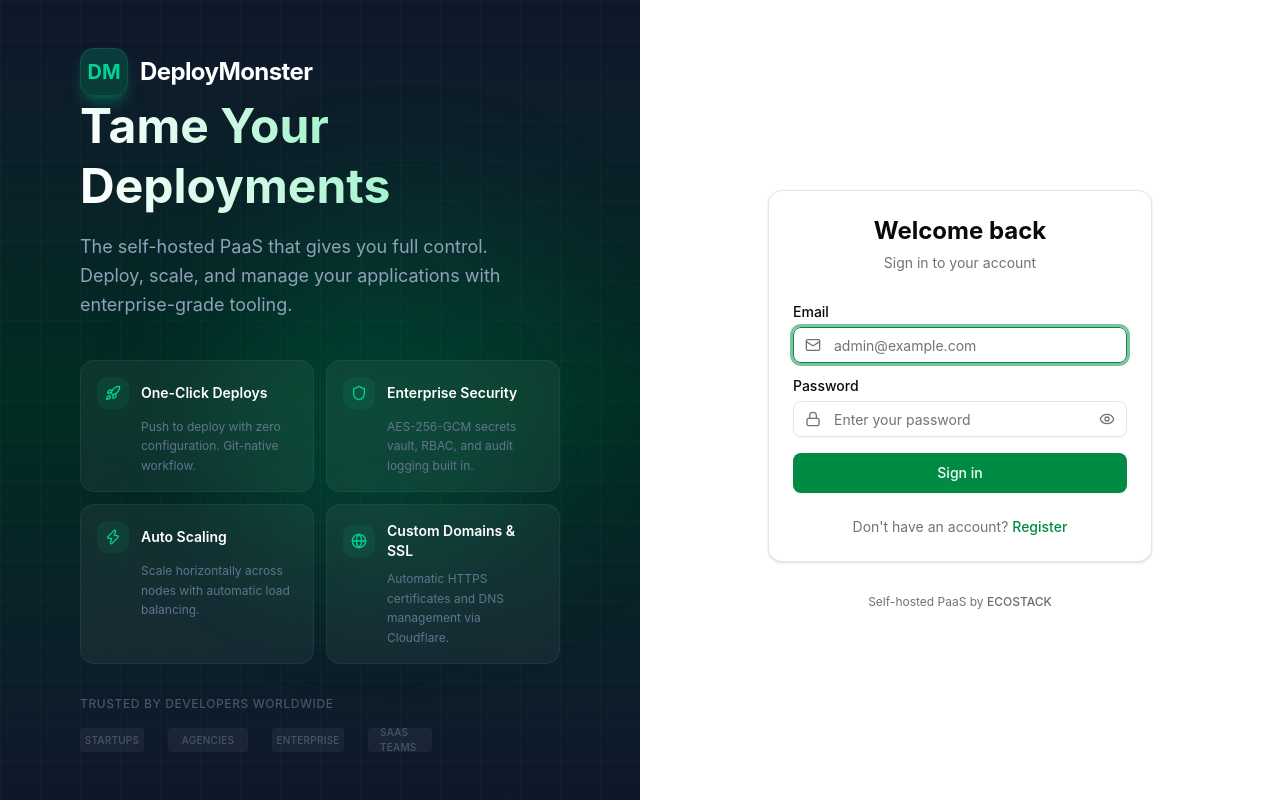
Login page › shows the error message from login() when it throws
Step 1. Type "bad@example.com" into the field labelled "Email" → (960, 345), box [793, 327, 1127, 363]
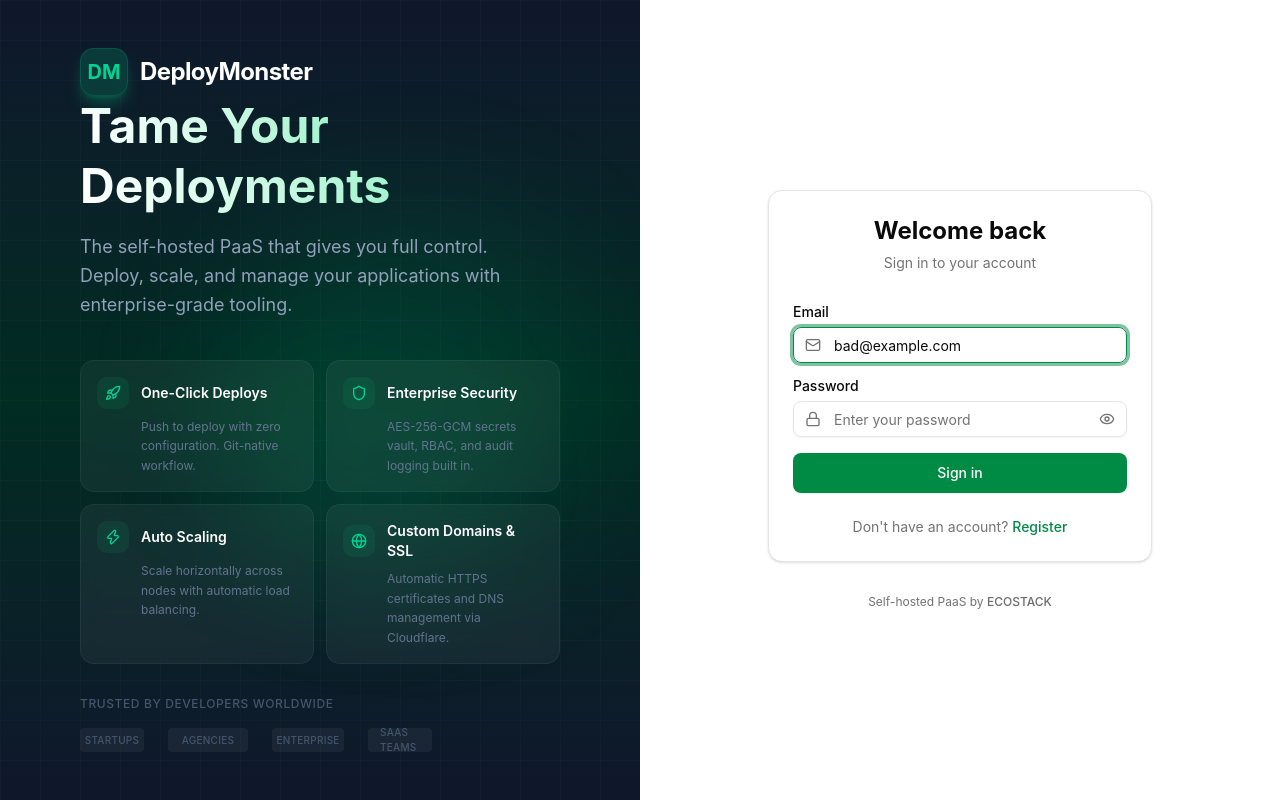
Step 2. Type "wrong" into the password field labelled "Password" → (960, 419), box [793, 401, 1127, 437]
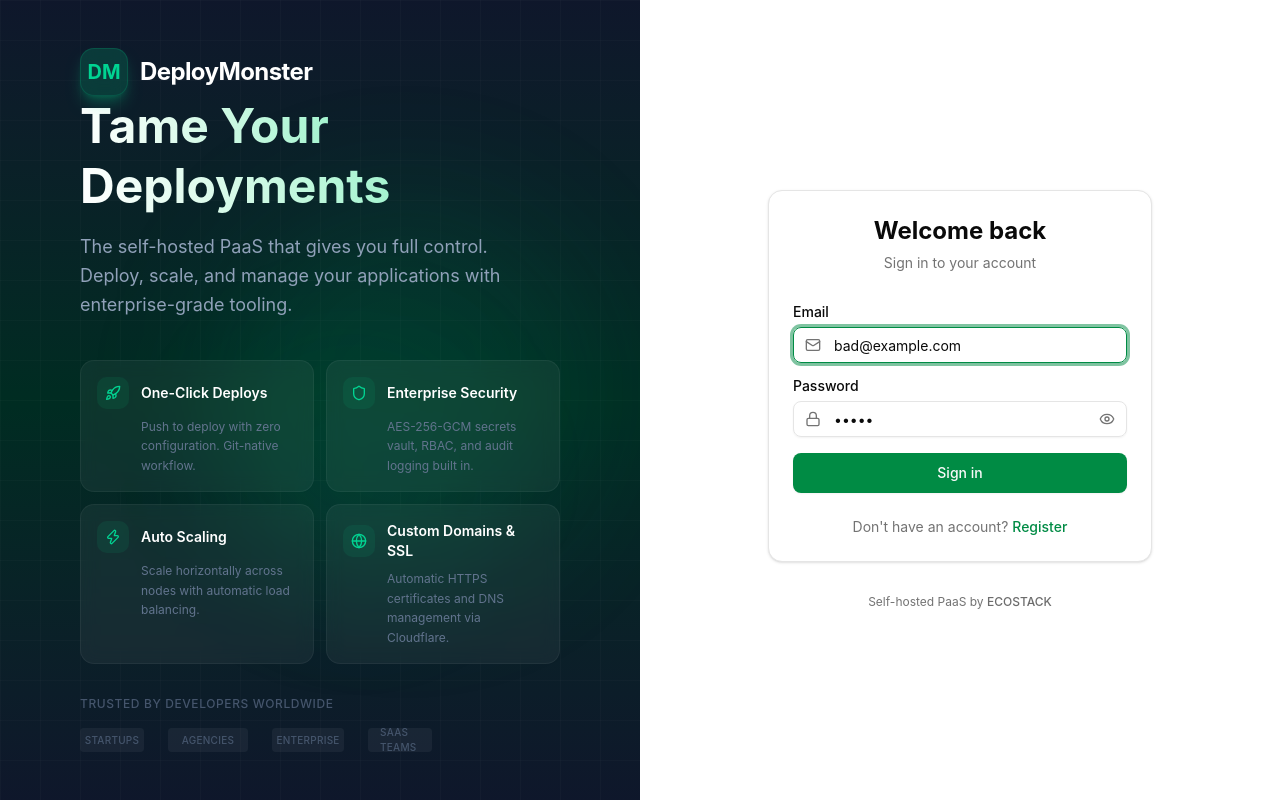
Step 3. Click the button "Sign in" → (960, 473), box [793, 453, 1127, 493]
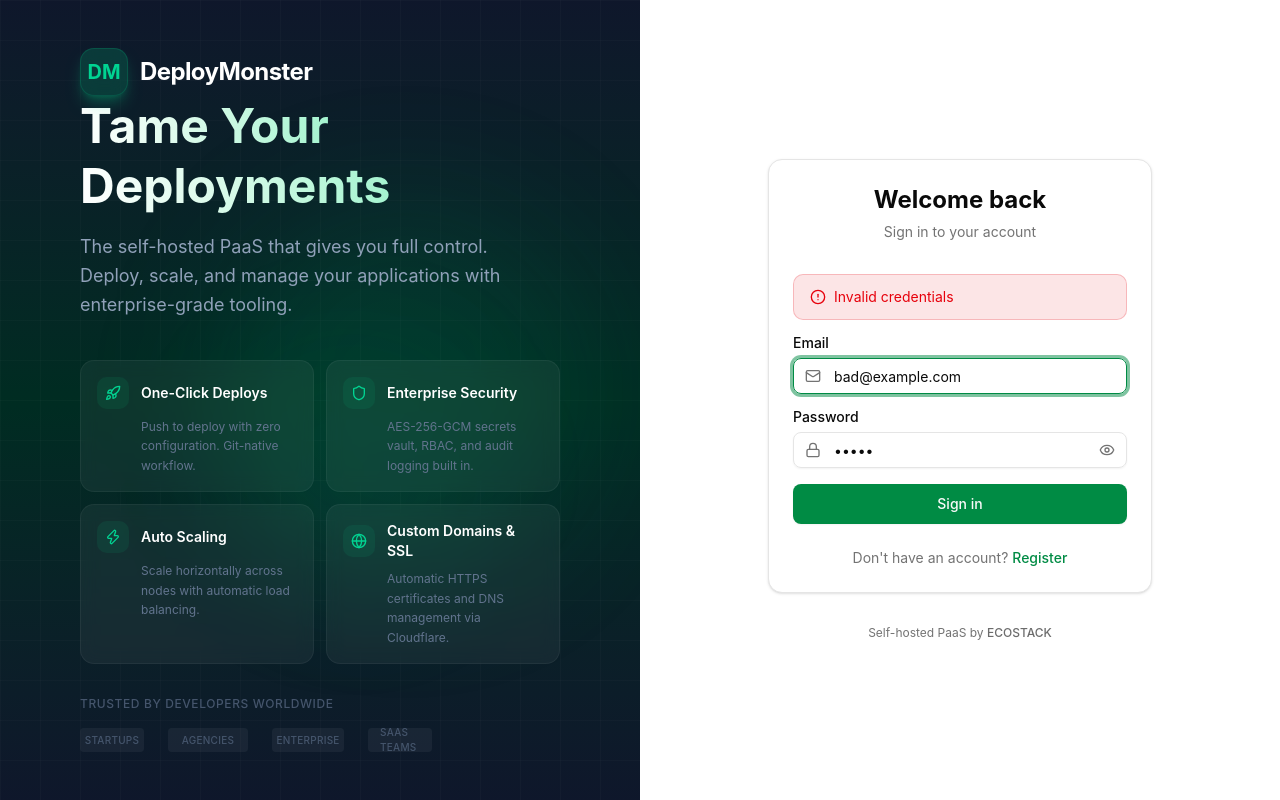
Expected: the text "Invalid credentials" is shown, [834, 287, 954, 307]
